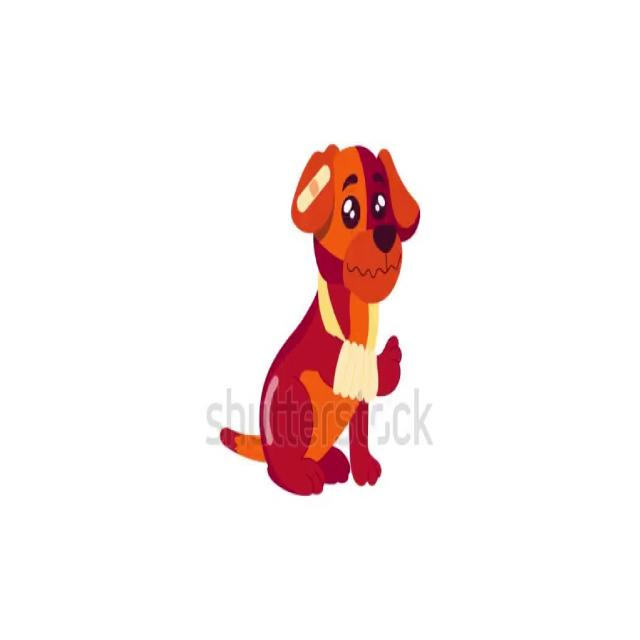injured-animals: (216, 138, 422, 499)
